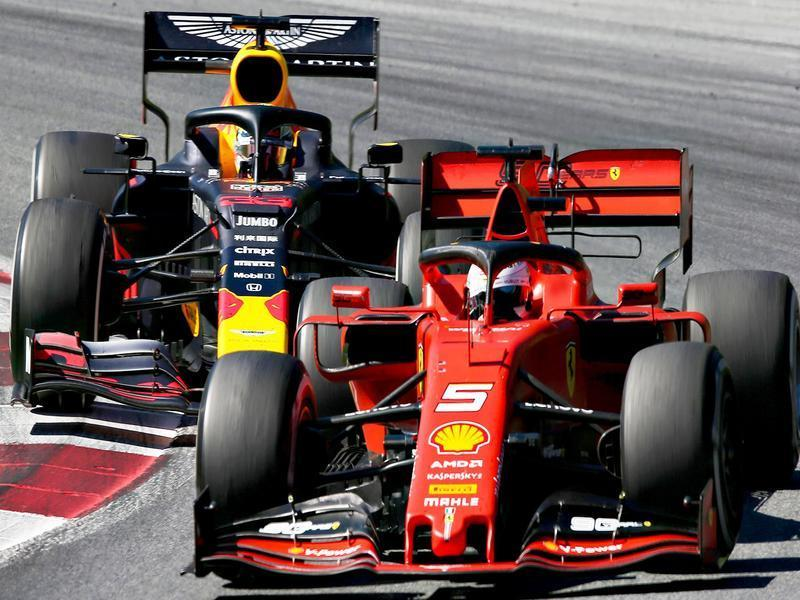f1: (202, 166, 800, 584), (19, 24, 434, 407)
